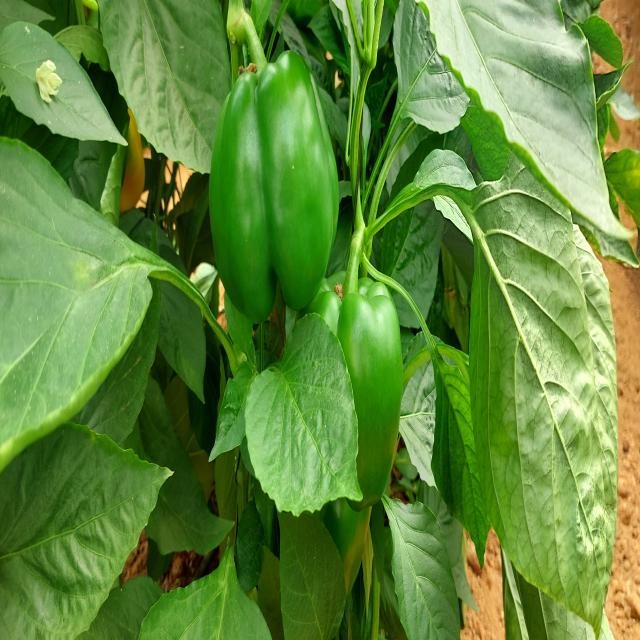Green--Not-ready-to-harvest: (208, 58, 344, 321), (301, 278, 403, 530)
